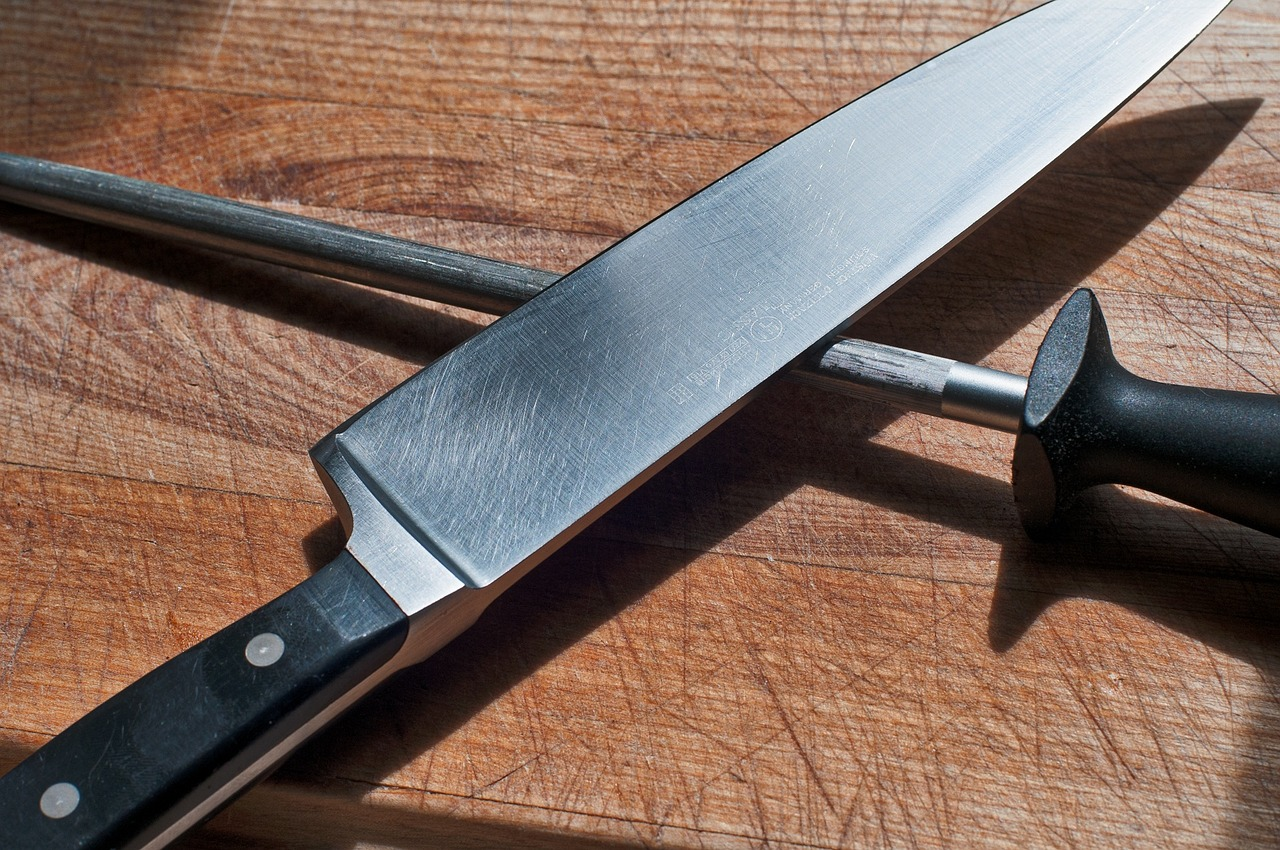knife: (0, 0, 1243, 850)
